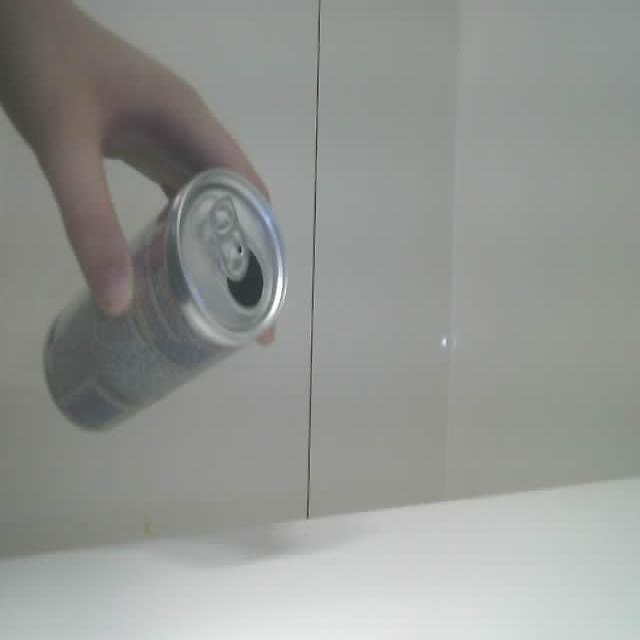redbull can: (44, 170, 286, 429)
